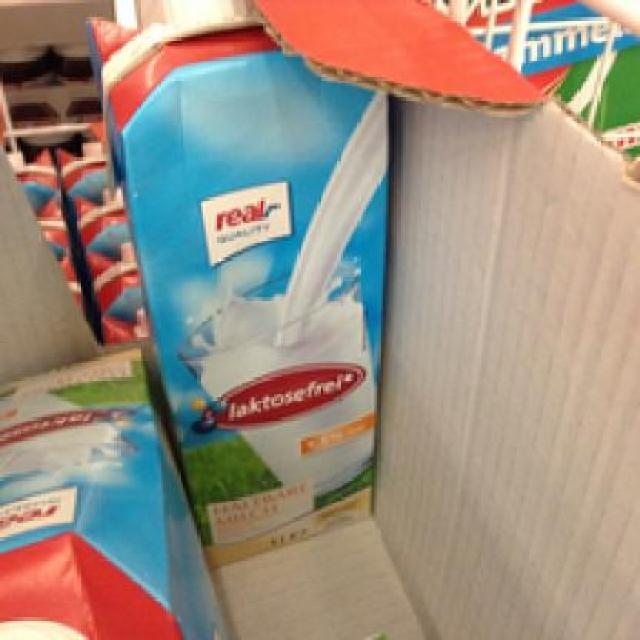Milk: (92, 0, 414, 560), (0, 337, 229, 637)
